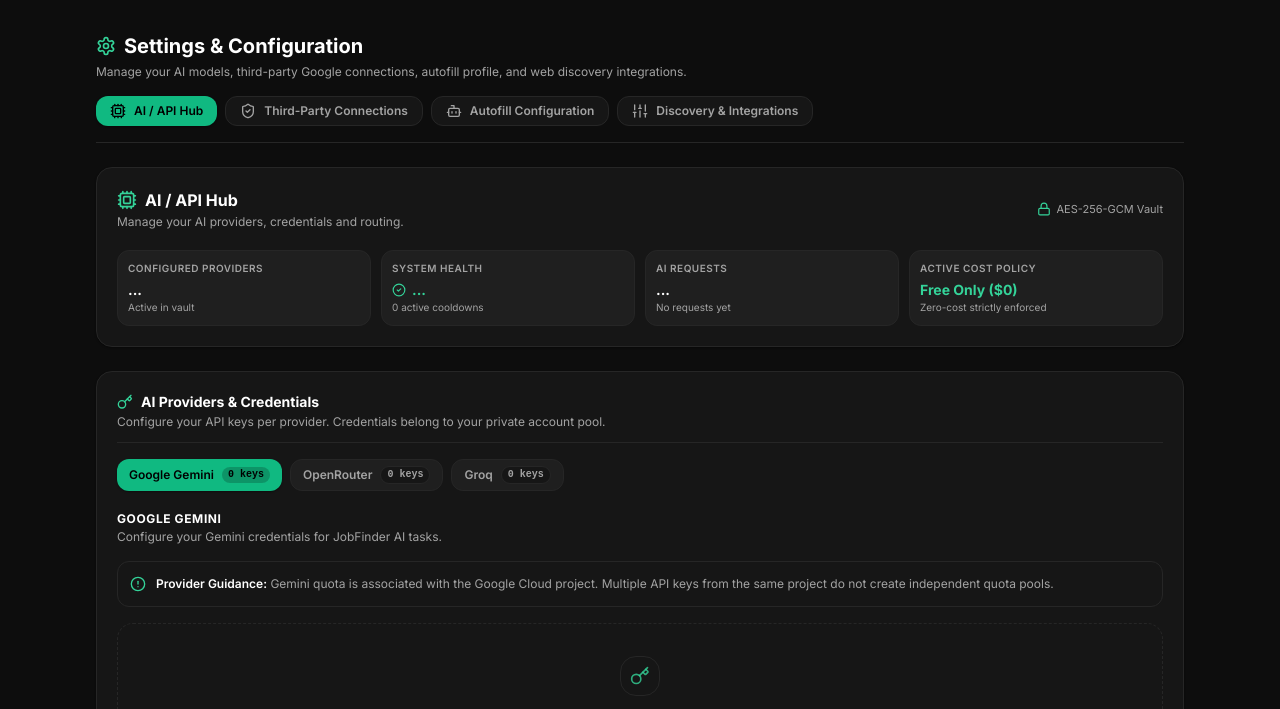
Test case: SettingsPage Autofill Configuration & Integrations › enables Save button and shows unsaved changes badge on edit
Step 1. Click the button "Autofill Configuration" → (520, 111), box [431,96,609,126]
(page scrolled)
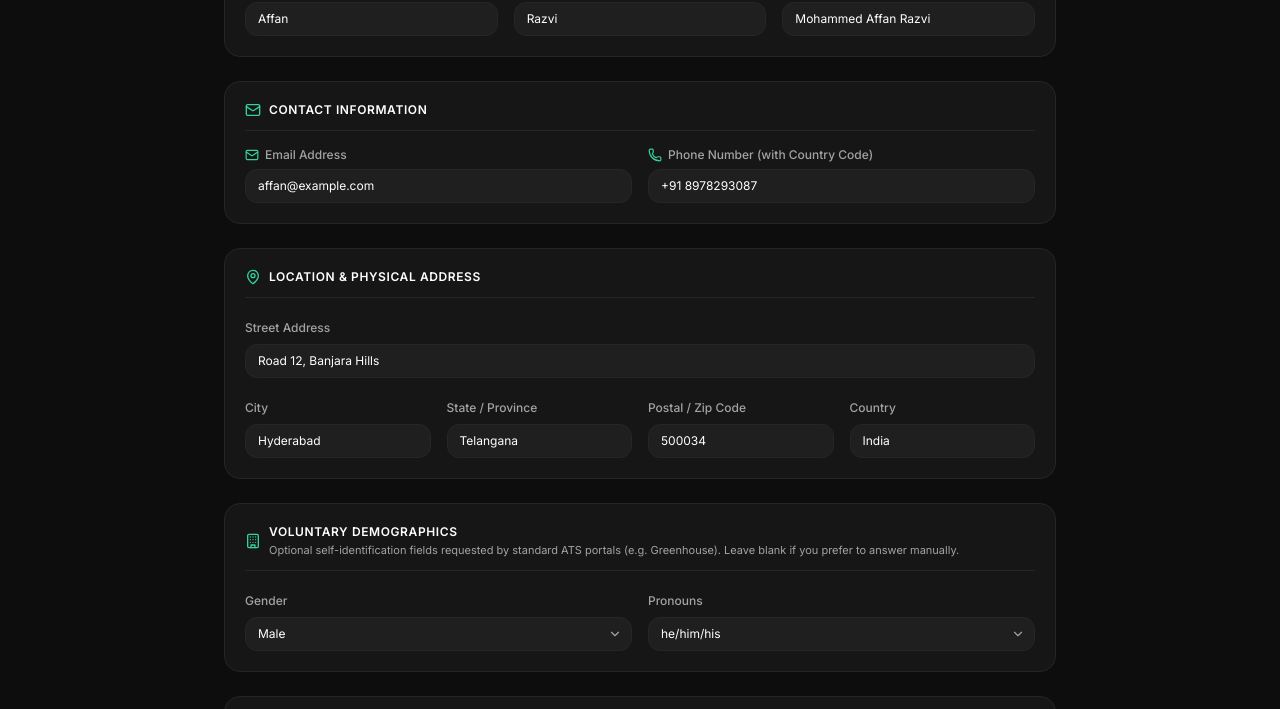
Now the field showing "Road 12, Banjara Hills" below "Street Address" is shown
Step 2. Replace the text in the field showing "Road 12, Banjara Hills" below "Street Address" with "456 Innovation Park" → (640, 360), box [245,344,1035,378]
(page scrolled)
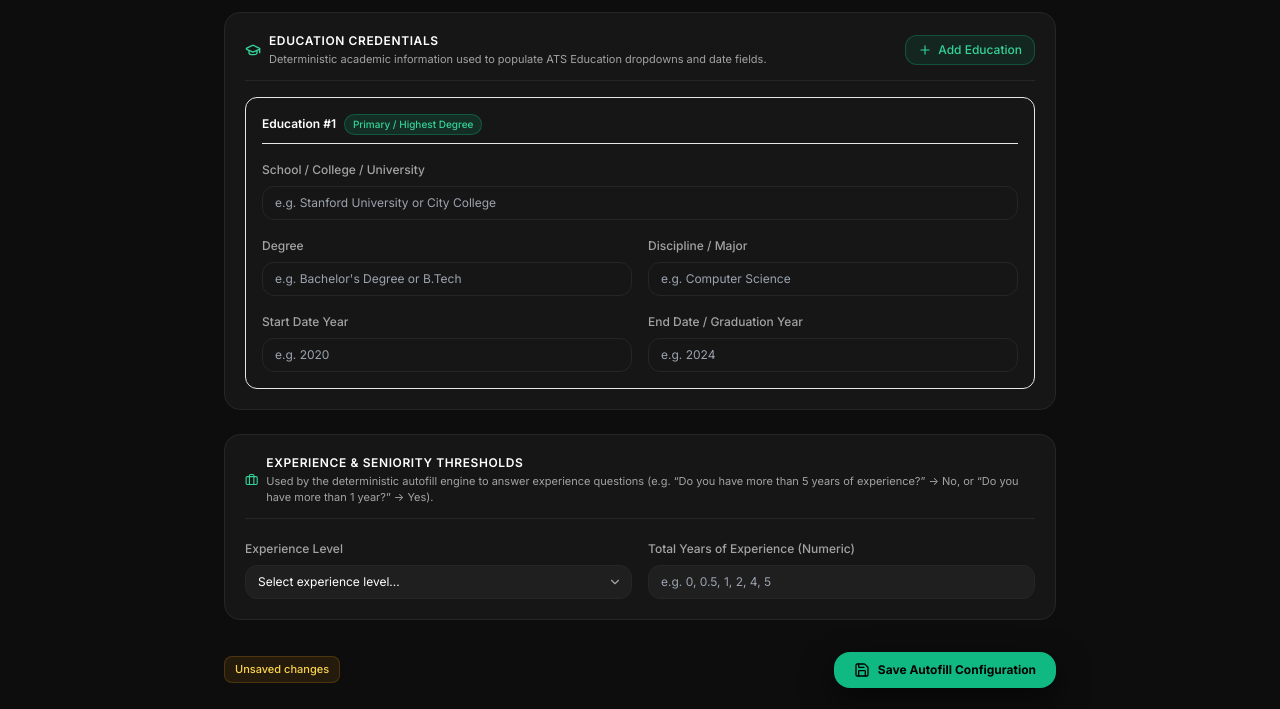
Now the text "Unsaved changes" is shown, box [224,656,340,683]
Now the button "Save Autofill Configuration" is enabled, box [834,652,1056,688]
